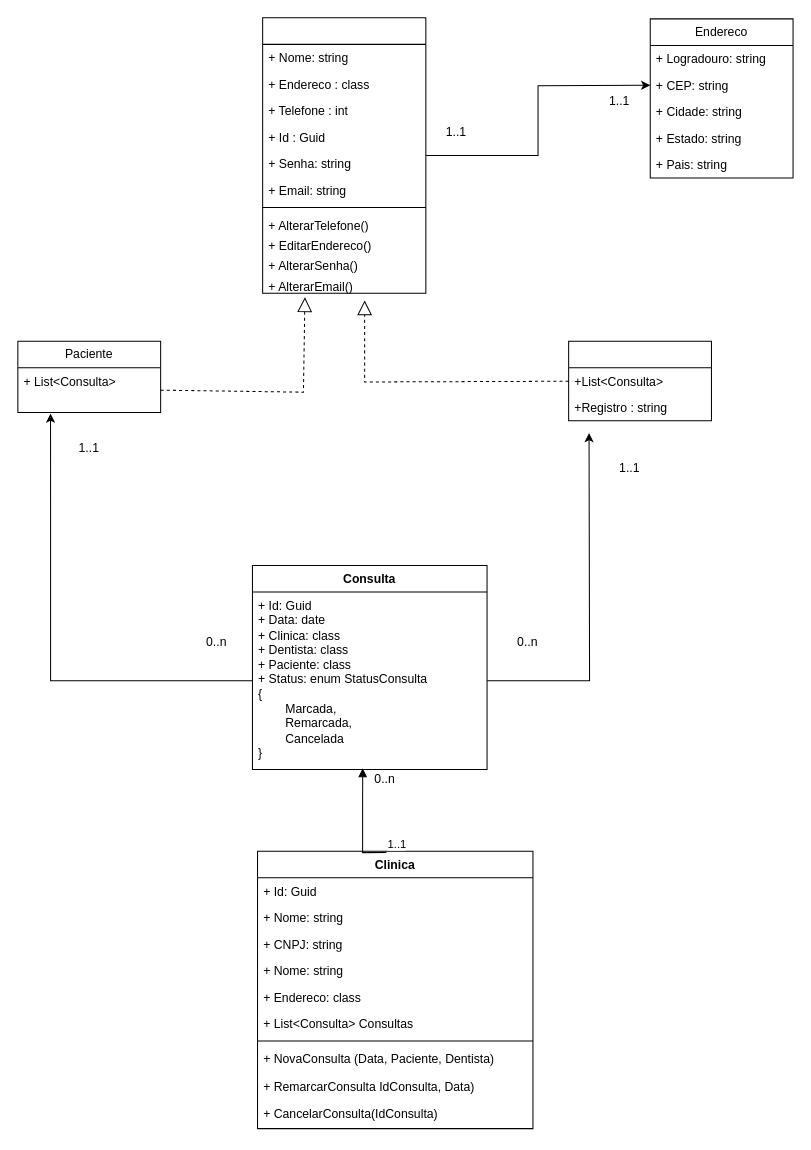
Some shapes in this 811 by 1150 pixel diagram are drawn without their labels. Each missing label, with the box of its shape:
Dentista: (568, 340, 711, 421)
Pessoa: (262, 17, 426, 293)
